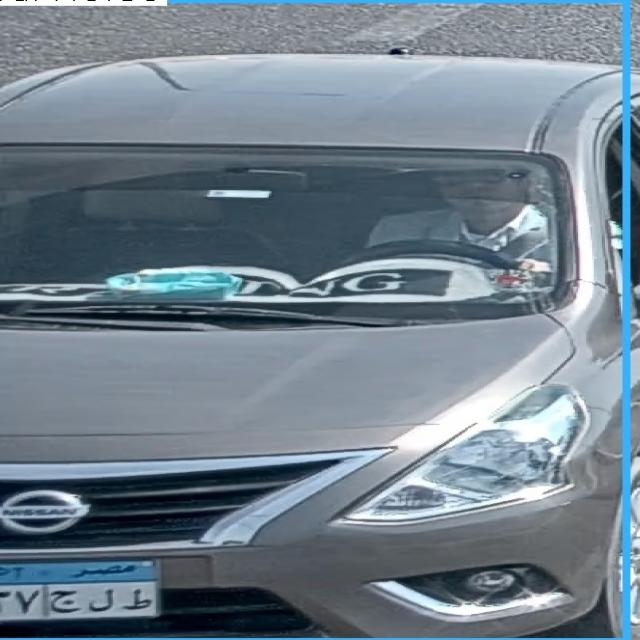windshield: (0, 140, 560, 313)
